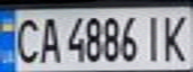4: (63, 12, 84, 63)
6: (118, 12, 142, 63)
8: (81, 12, 106, 63), (103, 14, 124, 63)
A: (33, 13, 63, 64)
C: (6, 14, 42, 65)
I: (139, 11, 169, 63)
K: (157, 10, 193, 63)
